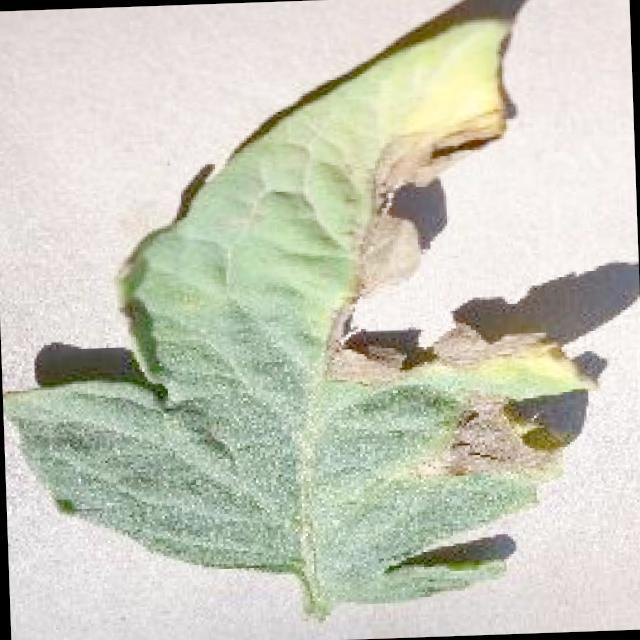Tomato Early blight leaf: (0, 21, 594, 631)
